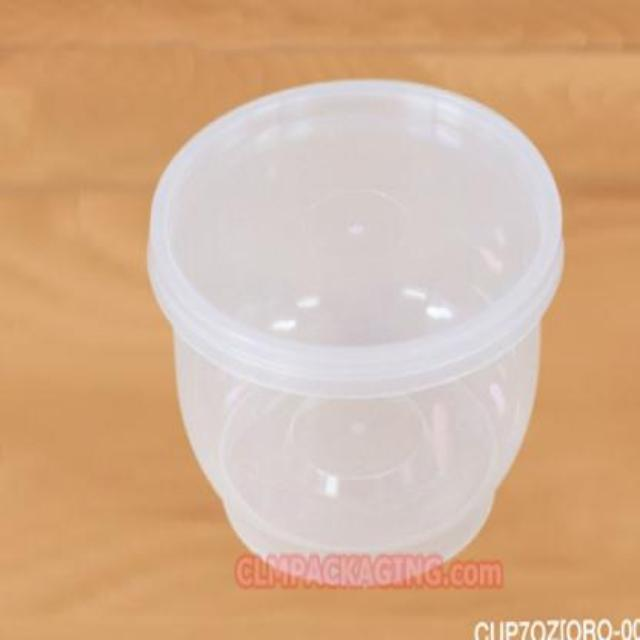plastic_box: (147, 77, 565, 577)
